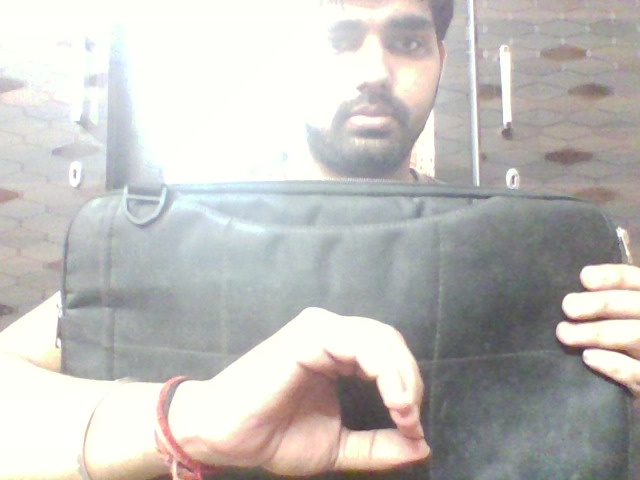o: (198, 288, 443, 470)
